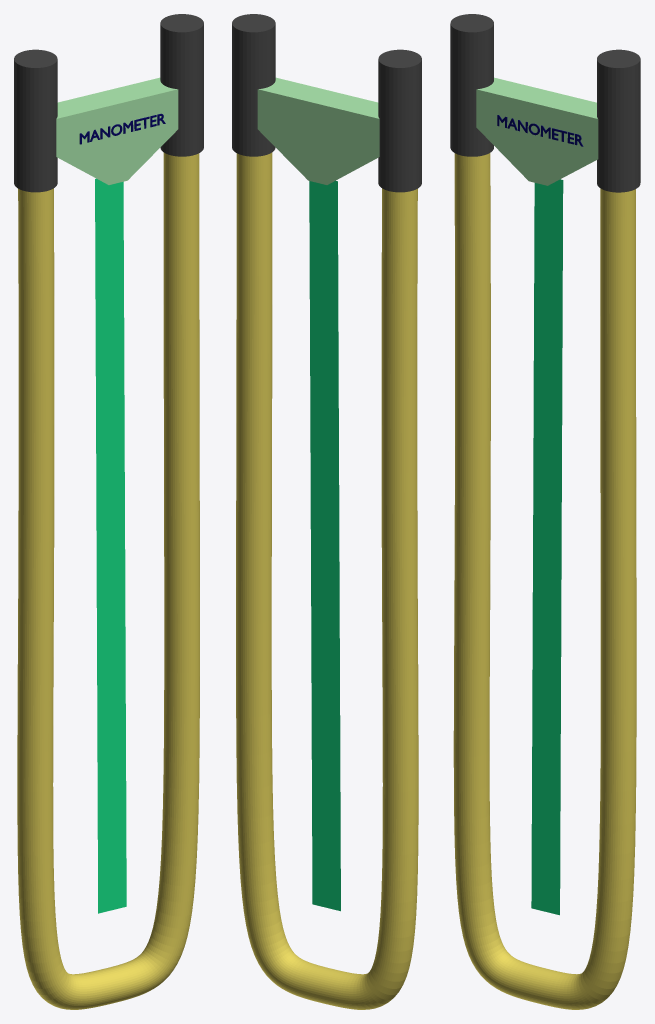
The model's file is manometer1.glb.
3 views of the same model, side by side, from view 1: azimuth 30°, elevation 25°; view 2: azimuth 150°, elevation 25°; view 3: azimuth 330°, elevation 25° (orthographic).
Parts seen in each view (by area): view 1: NurbsPath.001, Plane, Cylinder, Cube, Text; view 2: NurbsPath.001, Plane, Cylinder, Cube; view 3: NurbsPath.001, Plane, Cylinder, Cube, Text.
Boxes of the visible parts, x1,y1,x2,y2 form: NurbsPath.001: (17,152,199,1009); Plane: (95,178,126,913); Cylinder: (14,14,203,192); Cube: (56,77,178,184); Text: (79,113,165,144); NurbsPath.001: (236,152,418,1009); Plane: (309,180,340,911); Cylinder: (232,14,421,192); Cube: (257,77,379,184); NurbsPath.001: (453,153,636,1009); Plane: (531,179,563,915); Cylinder: (450,14,640,192); Cube: (476,77,598,185); Text: (497,115,583,146).
Size of the model in its own units: 12.9 by 64.32 by 2.64.
